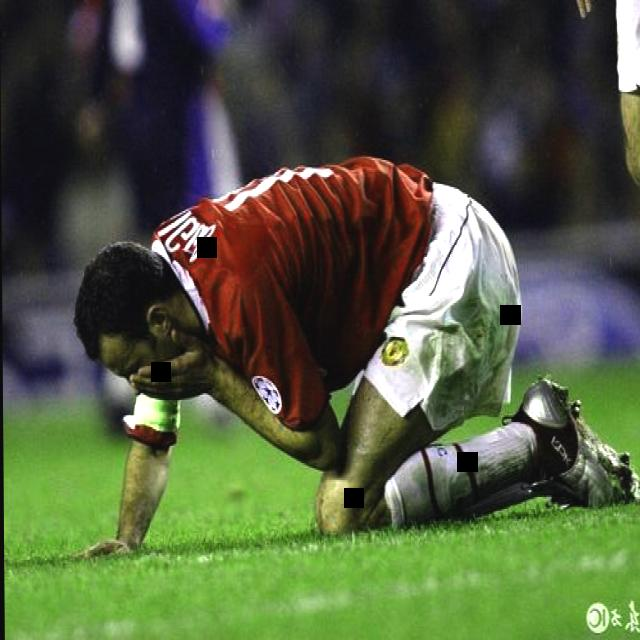Fall-Detected: (62, 134, 640, 552)
